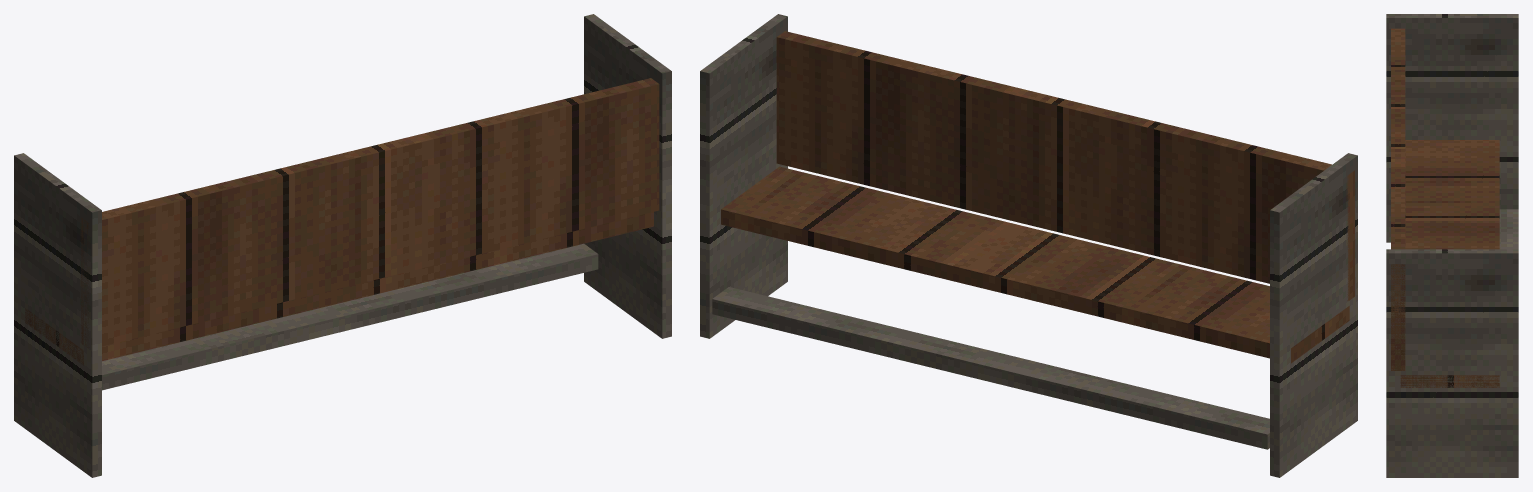
File: banco_iglesia.obj
3 views of the same model, side by side, from view 1: azimuth 30°, elevation 25°; view 2: azimuth 150°, elevation 25°; view 3: azimuth 270°, elevation 25° (orthographic). The views are drawn at different scales.
Parts seen in each view (by area): view 1: banco_iglesia; view 2: banco_iglesia; view 3: banco_iglesia.
Part boxes in pixels (x1,y1,x2,y2): banco_iglesia: [14, 14, 671, 477]; banco_iglesia: [700, 14, 1357, 477]; banco_iglesia: [1386, 14, 1518, 477].
Bounding box in the file's own units: 2.4 × 1.05 × 0.56.
2 materials, 2 textured.
